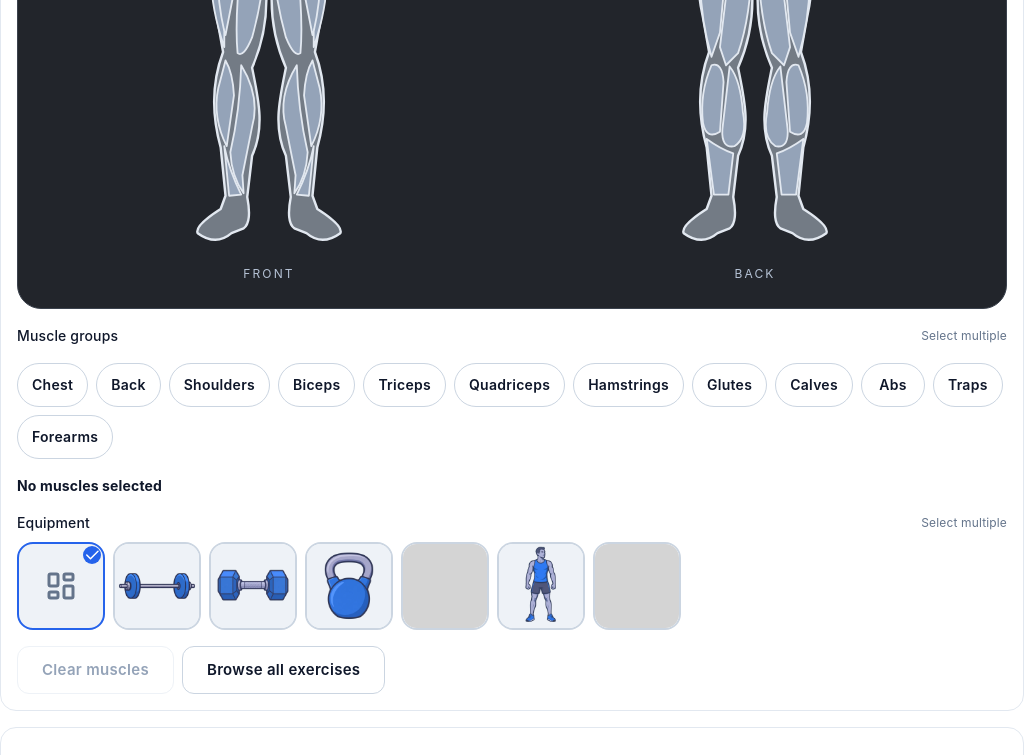
Test: EXERCISE-012 EXERCISE-013 EXERCISE-014 EXERCISE-015 ExerciseDiscovery › keeps loaded results when a later page fails and retries its cursor
(page scrolled)
Click the button "Chest" at [53, 385], box [17,363,88,407]
(page scrolled)
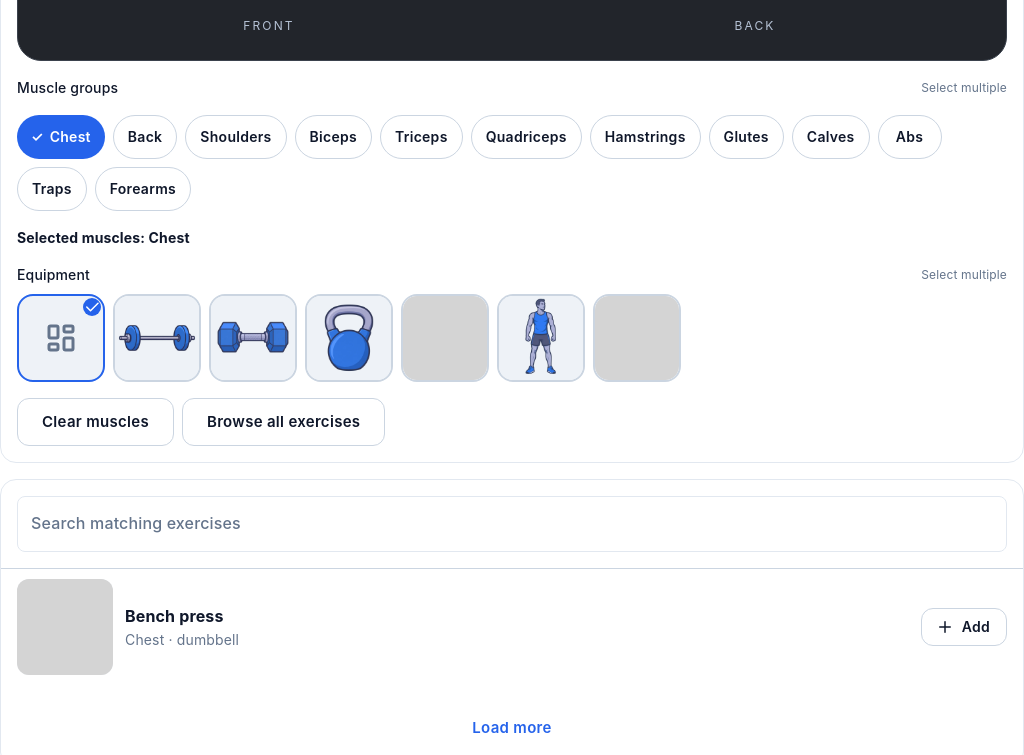
Now the text "Bench press" is shown, box [125,606,224,626]
Click the button "Load more" at [512, 728], box [448,705,576,752]
(page scrolled)
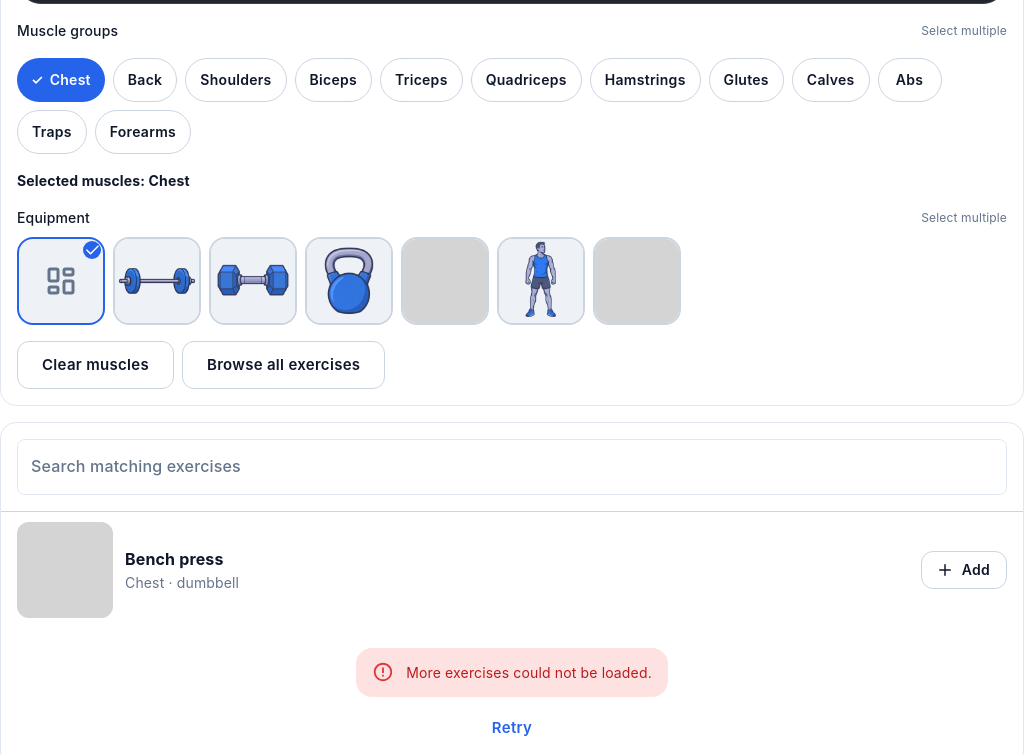
Now the text "Bench press" is shown, box [125,549,224,569]
Now the text "More exercises could not be loaded." is shown, box [406,664,652,681]
Click the button "Retry" at [512, 728], box [468,705,556,752]
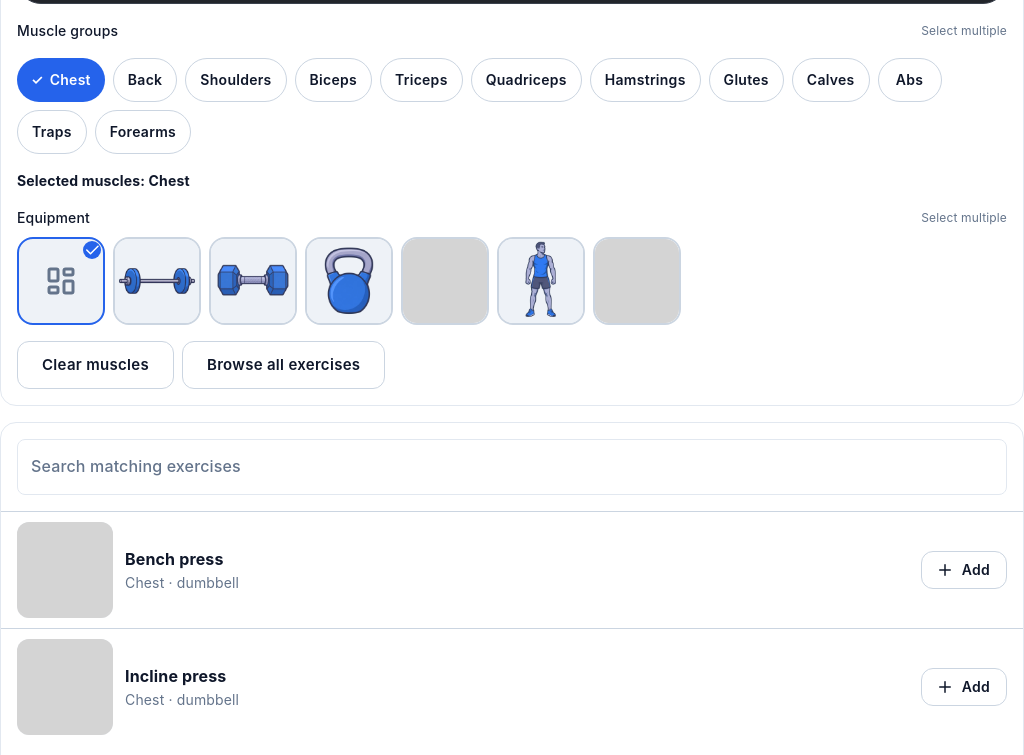
Now the text "Incline press" is shown, box [125,666,226,686]
